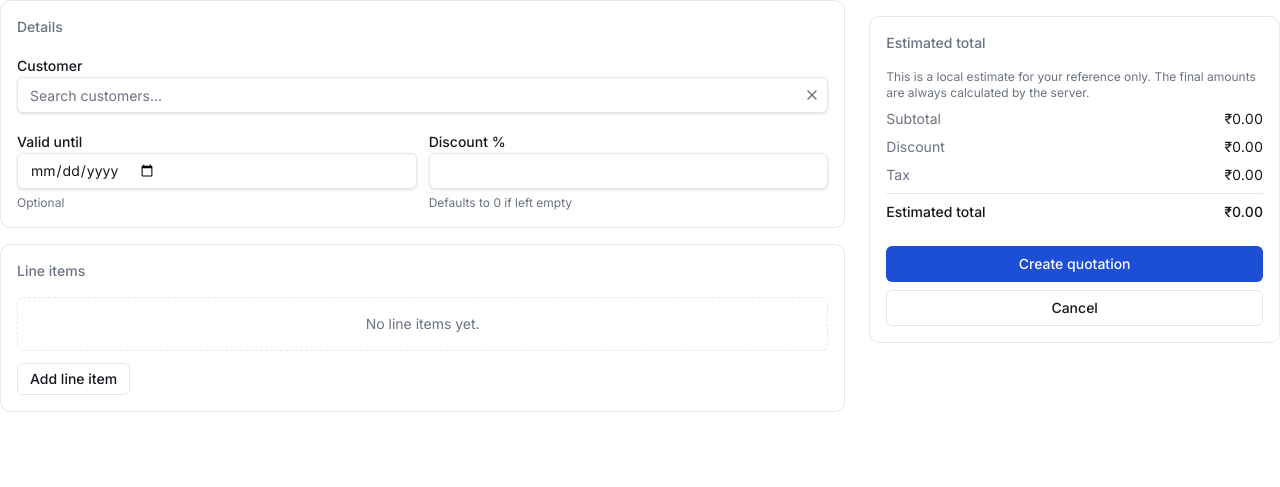
QuotationForm › requires a customer and at least one line item on submit
The width and height of the screenshot is (1280, 487).
Click the button "Create quotation". click: (1075, 264)
box: [886,246,1263,282]
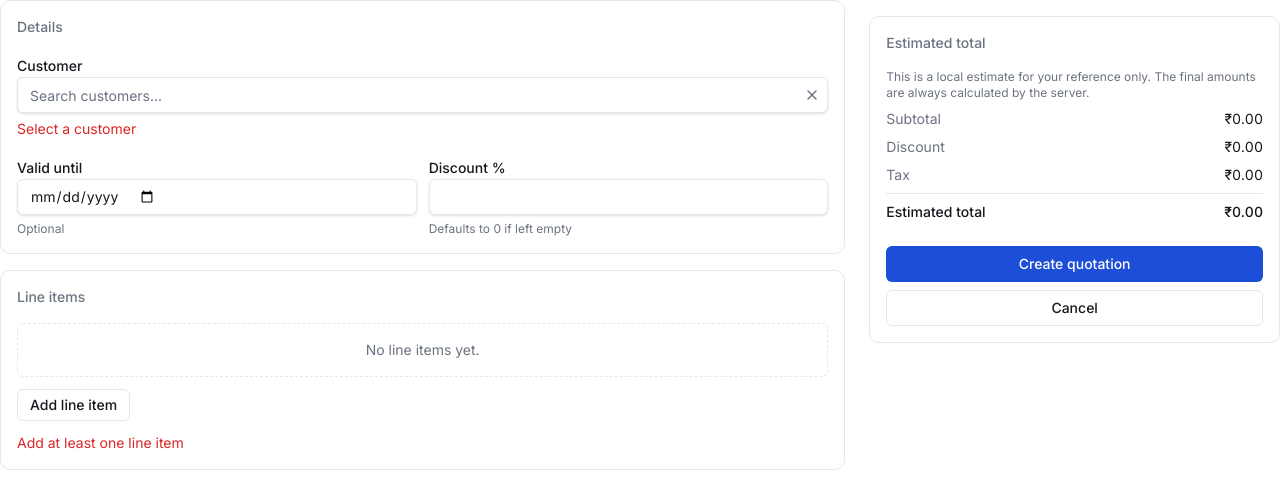
Now the text "Select a customer" is shown, box [17,120,136,137]
Now the text "Add at least one line item" is shown, box [17,434,184,451]
